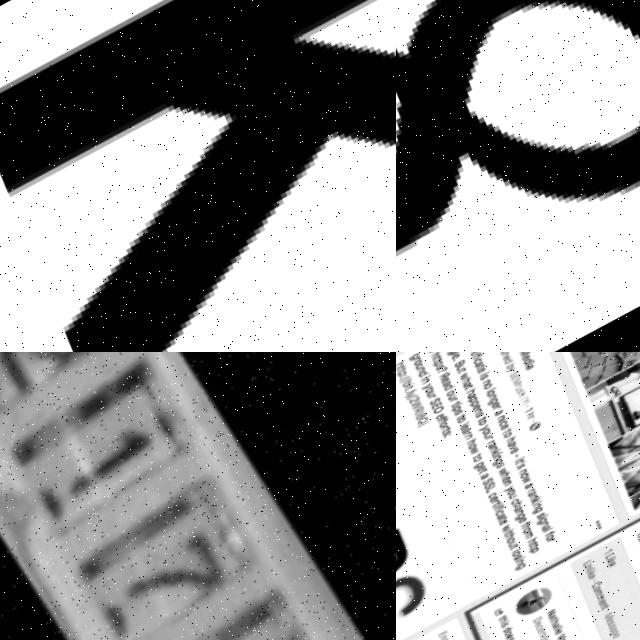1: (40, 396, 192, 536)
2: (0, 352, 122, 411)
4: (420, 414, 431, 423)
7: (103, 511, 252, 640)
8: (396, 0, 640, 352)
A: (498, 411, 509, 421), (511, 444, 522, 453), (529, 485, 540, 494), (547, 528, 558, 537), (471, 395, 481, 403), (519, 509, 529, 517), (445, 383, 455, 391), (532, 494, 543, 501), (528, 368, 537, 376), (466, 430, 475, 438), (485, 476, 494, 484), (502, 516, 511, 524), (466, 384, 476, 391), (492, 445, 502, 452), (554, 618, 564, 625), (478, 364, 487, 371), (617, 633, 626, 639), (559, 628, 567, 634)
B: (458, 361, 469, 371), (406, 381, 417, 390), (509, 367, 519, 374)
C: (597, 586, 609, 595), (475, 360, 487, 368), (502, 423, 513, 431), (516, 501, 526, 509), (493, 495, 502, 503), (501, 513, 510, 521), (543, 629, 551, 635)
D: (526, 360, 538, 370), (421, 371, 433, 381), (447, 385, 458, 394), (510, 630, 521, 638), (541, 620, 550, 629), (507, 361, 516, 369)
E: (480, 369, 491, 378), (504, 427, 515, 436), (435, 404, 446, 413), (507, 479, 517, 488), (514, 451, 525, 459), (505, 522, 514, 531), (524, 358, 534, 366), (524, 520, 534, 528), (444, 379, 454, 387), (481, 468, 491, 476), (439, 415, 449, 423), (444, 633, 455, 640), (476, 407, 485, 415), (464, 426, 473, 434), (495, 499, 504, 507), (541, 625, 550, 633), (560, 633, 570, 640), (544, 631, 552, 639), (495, 405, 504, 412), (455, 356, 464, 363), (514, 378, 523, 385), (594, 579, 603, 586), (613, 623, 622, 630), (615, 567, 623, 574), (505, 359, 514, 365), (605, 605, 614, 611), (512, 636, 521, 640), (619, 638, 628, 640)
F: (475, 355, 486, 363), (551, 534, 562, 542), (527, 524, 537, 532), (499, 508, 509, 516), (442, 420, 453, 427), (441, 418, 451, 425)
G: (490, 399, 504, 410), (537, 510, 550, 521), (496, 460, 509, 471), (541, 520, 555, 530), (519, 516, 533, 526), (411, 354, 424, 363), (478, 464, 490, 473), (521, 567, 533, 576), (448, 352, 462, 359), (617, 636, 626, 640)
H: (465, 379, 477, 388), (518, 504, 530, 513), (533, 541, 545, 550), (511, 536, 523, 545), (510, 439, 521, 448), (470, 390, 481, 399), (471, 441, 482, 450), (505, 475, 517, 483), (433, 353, 445, 361), (398, 362, 409, 370), (506, 620, 517, 628), (522, 395, 531, 402), (559, 623, 568, 630), (504, 355, 513, 361), (530, 416, 539, 422)
I: (518, 460, 530, 467), (482, 374, 494, 380), (475, 353, 485, 360), (544, 519, 555, 525), (424, 377, 435, 383), (528, 365, 538, 371), (476, 357, 486, 363), (508, 623, 518, 629), (539, 504, 548, 510), (498, 455, 507, 461), (457, 406, 466, 412), (499, 507, 508, 513), (501, 510, 510, 516), (510, 532, 519, 538), (408, 385, 417, 391), (420, 412, 429, 418), (503, 421, 512, 426), (522, 561, 531, 566), (593, 574, 602, 579), (563, 632, 571, 637), (614, 562, 622, 566), (503, 352, 511, 354)
J: (420, 422, 435, 431)
K: (0, 0, 396, 352), (536, 500, 548, 509), (496, 451, 507, 460), (614, 563, 623, 570), (594, 576, 603, 583)
L: (491, 489, 502, 497), (454, 352, 465, 359), (612, 559, 621, 566), (490, 391, 499, 396), (550, 532, 559, 537), (464, 424, 473, 429), (518, 552, 527, 557), (562, 630, 570, 635), (593, 573, 601, 577), (501, 352, 509, 353)
M: (521, 352, 533, 361), (531, 535, 540, 544), (516, 381, 525, 390), (612, 618, 622, 626), (603, 599, 612, 607), (602, 595, 610, 603), (545, 635, 554, 640)
N: (523, 472, 534, 481), (468, 435, 478, 444), (555, 613, 564, 622), (485, 382, 495, 390), (534, 498, 544, 506), (538, 507, 548, 515), (508, 483, 518, 491), (419, 368, 429, 376), (424, 379, 434, 387), (492, 397, 501, 405), (501, 418, 510, 426), (546, 525, 555, 533), (478, 411, 487, 419), (494, 449, 503, 457), (521, 513, 530, 521), (497, 458, 507, 465), (522, 563, 531, 570), (591, 570, 599, 577), (607, 608, 615, 615), (446, 636, 455, 640)
O: (486, 385, 498, 395), (550, 537, 562, 547), (436, 408, 448, 417), (421, 418, 433, 427), (507, 434, 518, 443), (528, 530, 538, 539), (449, 391, 459, 400), (416, 360, 426, 369), (428, 388, 438, 397), (443, 423, 453, 432), (513, 540, 522, 549), (519, 554, 528, 563), (490, 393, 500, 401), (483, 422, 492, 430), (461, 419, 470, 427), (473, 446, 482, 454), (478, 459, 487, 467), (525, 476, 535, 483), (599, 591, 609, 598), (487, 431, 496, 438), (512, 492, 521, 499), (511, 634, 520, 640), (431, 352, 440, 356), (450, 352, 460, 354)
P: (534, 550, 546, 560), (470, 399, 482, 408), (472, 403, 484, 412), (435, 362, 447, 371), (455, 408, 466, 417), (399, 372, 410, 381)
R: (441, 373, 455, 384), (417, 408, 428, 417), (496, 408, 506, 415), (527, 528, 537, 535), (431, 396, 441, 403), (553, 542, 562, 549), (491, 442, 500, 449), (496, 502, 505, 509), (532, 492, 541, 498), (489, 439, 498, 445), (453, 400, 462, 406), (467, 434, 476, 440), (415, 359, 424, 365), (518, 387, 526, 393), (531, 419, 539, 425), (471, 352, 481, 356), (445, 428, 453, 433)
S: (486, 479, 500, 490), (488, 484, 501, 495), (433, 399, 445, 409), (520, 466, 532, 475), (541, 516, 552, 524), (483, 376, 493, 384), (480, 414, 489, 422), (501, 465, 510, 473), (458, 412, 467, 420), (519, 558, 529, 565), (513, 375, 522, 382), (508, 626, 517, 633), (519, 393, 529, 399), (615, 625, 623, 632), (502, 352, 511, 358), (439, 367, 448, 373), (447, 433, 456, 439), (616, 629, 624, 635)
T: (482, 470, 495, 479), (479, 366, 490, 374), (461, 370, 472, 378), (468, 386, 479, 394), (497, 504, 508, 512), (509, 533, 520, 541), (507, 431, 517, 439), (535, 544, 545, 552), (536, 547, 546, 555), (516, 547, 526, 555), (400, 368, 410, 376), (408, 386, 418, 394), (435, 359, 446, 366), (454, 403, 465, 410), (445, 429, 456, 436), (399, 366, 410, 373), (520, 462, 530, 469), (482, 419, 492, 426), (435, 357, 445, 364), (460, 416, 470, 423), (477, 455, 487, 462), (504, 520, 514, 527), (505, 618, 515, 625), (608, 610, 617, 617), (474, 353, 482, 358), (557, 622, 565, 627)
U: (590, 565, 599, 574), (451, 396, 461, 404), (488, 435, 497, 443), (514, 544, 523, 552), (459, 367, 469, 374), (418, 365, 428, 371), (518, 389, 527, 395), (514, 497, 523, 503), (430, 393, 439, 399)
V: (513, 447, 522, 455), (563, 637, 573, 640)
W: (414, 401, 426, 413), (503, 470, 513, 480), (507, 528, 517, 538), (526, 479, 537, 488), (462, 375, 473, 384), (474, 450, 483, 458)
Y: (507, 488, 521, 498), (423, 384, 437, 394), (406, 392, 420, 402), (482, 427, 495, 437), (508, 370, 518, 378), (517, 352, 529, 355)
